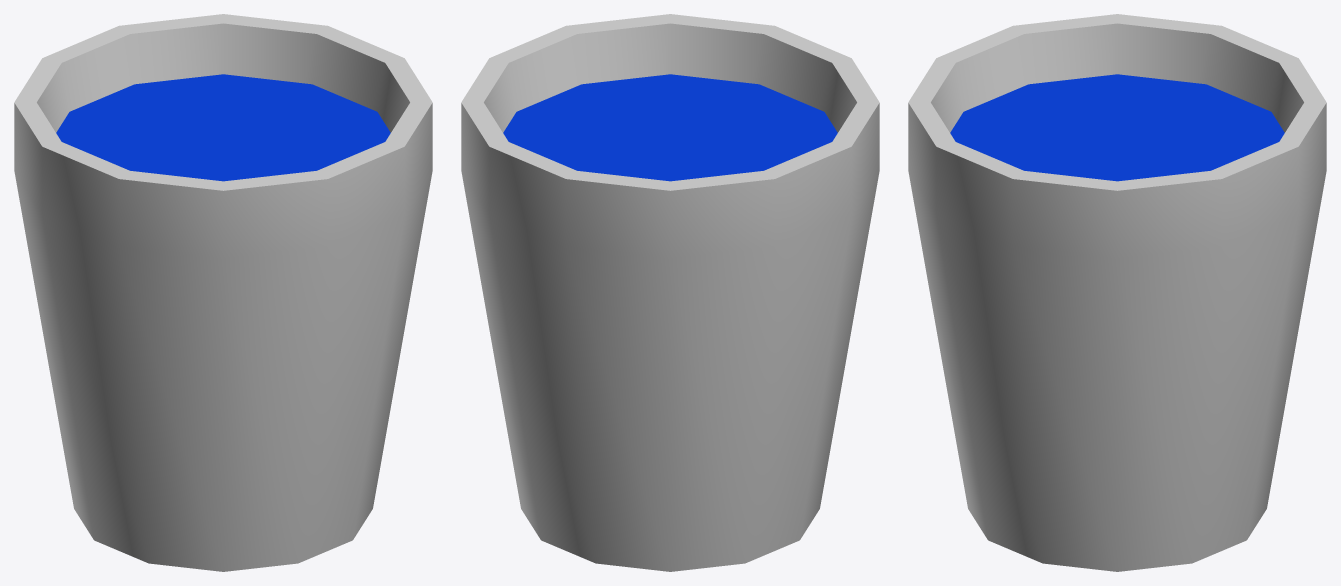
File: Mug.fbx
3 renders of one model, left to right at view 1: azimuth 30°, elevation 25°; view 2: azimuth 150°, elevation 25°; view 3: azimuth 270°, elevation 25°, orthographic.
Parts seen in each view (by area): view 1: Mug, Liquid; view 2: Mug, Liquid; view 3: Mug, Liquid.
Boxes of the visible parts, left/top/right/bottom form: Mug: left=14, top=14, right=432, bottom=571; Liquid: left=56, top=74, right=390, bottom=181; Mug: left=461, top=14, right=879, bottom=571; Liquid: left=503, top=74, right=837, bottom=181; Mug: left=908, top=14, right=1326, bottom=571; Liquid: left=950, top=74, right=1284, bottom=181.
Size of the model in its own units: 280 by 300 by 280.
